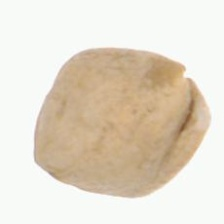L3: (172, 61, 202, 127)
L4: (33, 47, 211, 198)
